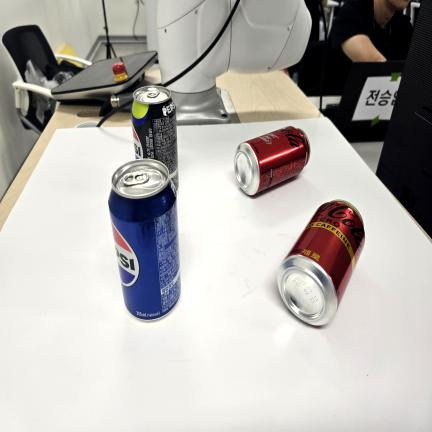can_coke_decaf: (277, 200, 365, 325)
can_coke_zero: (234, 126, 310, 195)
can_pepsi: (108, 159, 181, 320)
can_pepsi_zero: (131, 86, 178, 188)
